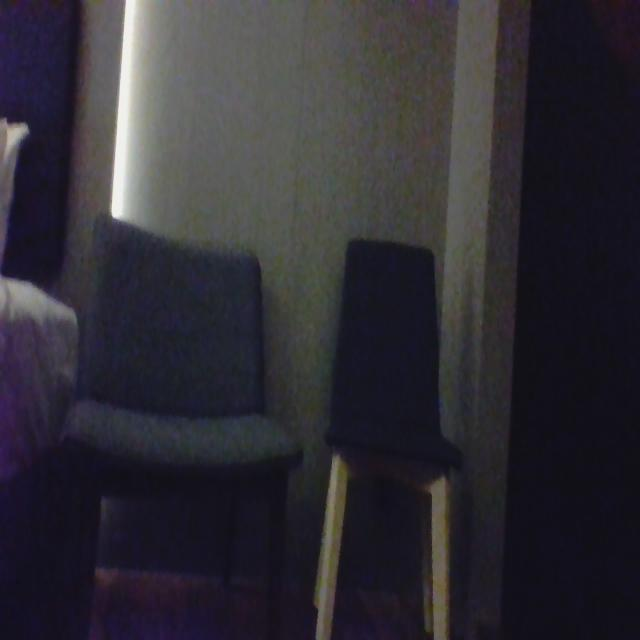empty: (90, 212, 278, 467), (328, 216, 444, 457)
